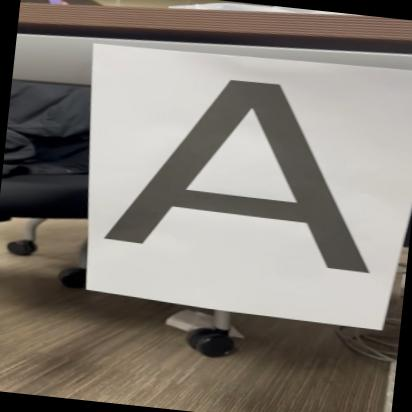seat: (95, 57, 412, 294)
